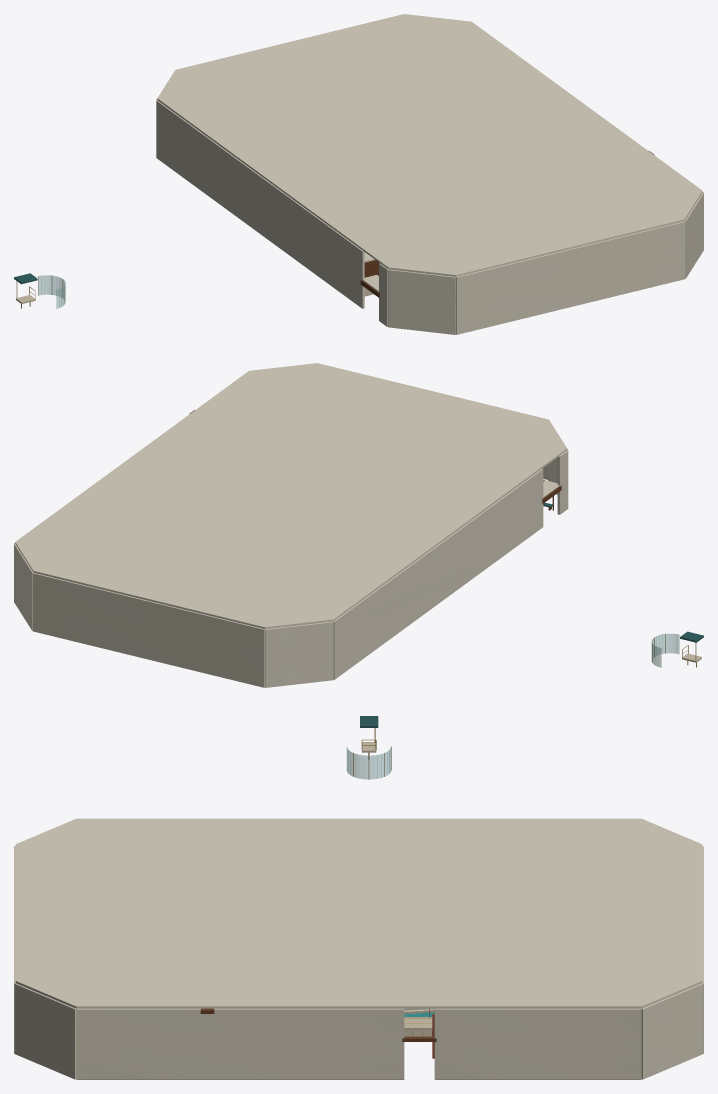
Rendered from AquaticCompletion_r010.glb.
3 renders of one model, top to bottom at view 1: azimuth 30°, elevation 25°; view 2: azimuth 150°, elevation 25°; view 3: azimuth 270°, elevation 25°, orthographic. The views are drawn at different scales.
Parts seen in each view (by area): view 1: AQ6_BATCH_roof_asset_ASTRAEA_ivory_enamel, AQ6_BATCH_architecture_ASTRAEA_ivory_enamel, AQ6_BATCH_architecture_AQD_glass; view 2: AQ6_BATCH_roof_asset_ASTRAEA_ivory_enamel, AQ6_BATCH_architecture_ASTRAEA_ivory_enamel, AQ6_BATCH_architecture_AQD_glass; view 3: AQ6_BATCH_roof_asset_ASTRAEA_ivory_enamel, AQ6_BATCH_architecture_ASTRAEA_ivory_enamel, AQ6_BATCH_architecture_AQD_glass.
Part boxes in pixels (x1,y1,x2,y2): AQ6_BATCH_roof_asset_ASTRAEA_ivory_enamel: (157, 14, 702, 276); AQ6_BATCH_architecture_ASTRAEA_ivory_enamel: (156, 98, 703, 334); AQ6_BATCH_architecture_AQD_glass: (38, 275, 65, 308); AQ6_BATCH_roof_asset_ASTRAEA_ivory_enamel: (15, 363, 567, 629); AQ6_BATCH_architecture_ASTRAEA_ivory_enamel: (14, 449, 568, 687); AQ6_BATCH_architecture_AQD_glass: (651, 633, 679, 667); AQ6_BATCH_roof_asset_ASTRAEA_ivory_enamel: (15, 818, 702, 1008); AQ6_BATCH_architecture_ASTRAEA_ivory_enamel: (14, 846, 703, 1079); AQ6_BATCH_architecture_AQD_glass: (346, 747, 391, 779).
Bounding box in the file's own units: 79.52 × 9.15 × 68.32.
Materials: 19 (16 with a texture image).
